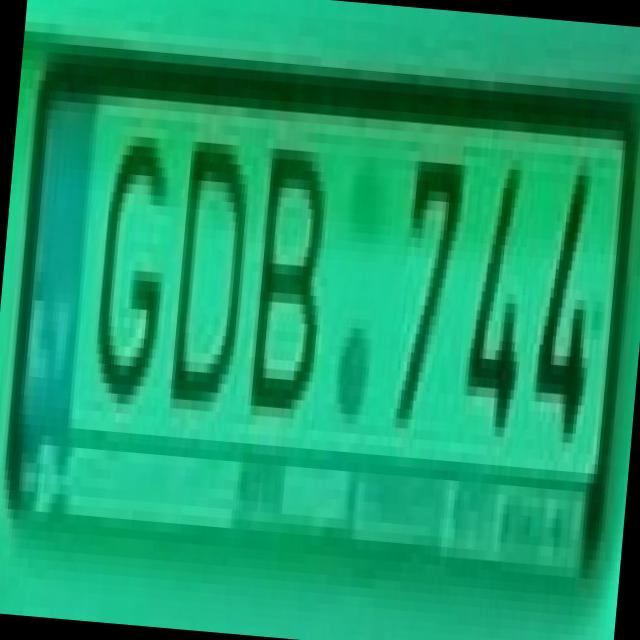4: (519, 143, 606, 434), (452, 137, 538, 428)
7: (379, 130, 474, 422)
B: (238, 118, 340, 411)
D: (154, 111, 257, 404)
G: (76, 104, 180, 397)
